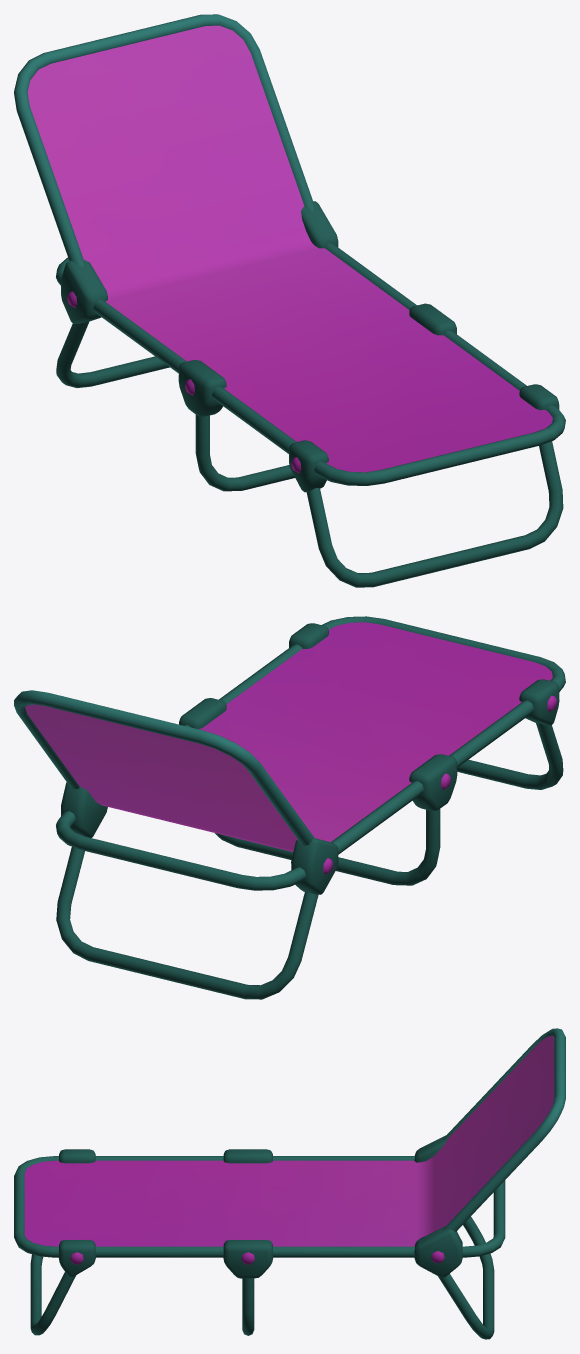
File: Couch_14.glb
The picture shows the model from 3 angles, top to bottom: view 1: azimuth 30°, elevation 25°; view 2: azimuth 150°, elevation 25°; view 3: azimuth 270°, elevation 25°; orthographic projection. The views are drawn at different scales.
Visible parts, largest first — view 1: Couch_14; view 2: Couch_14; view 3: Couch_14.
Boxes of the visible parts, x1,y1,x2,y2 form: Couch_14: (14, 14, 565, 587); Couch_14: (14, 616, 565, 999); Couch_14: (14, 1028, 565, 1339).
Bounding box in the file's own units: 0.7338 × 0.8102 × 1.68.
Materials: 1 (1 with a texture image).
